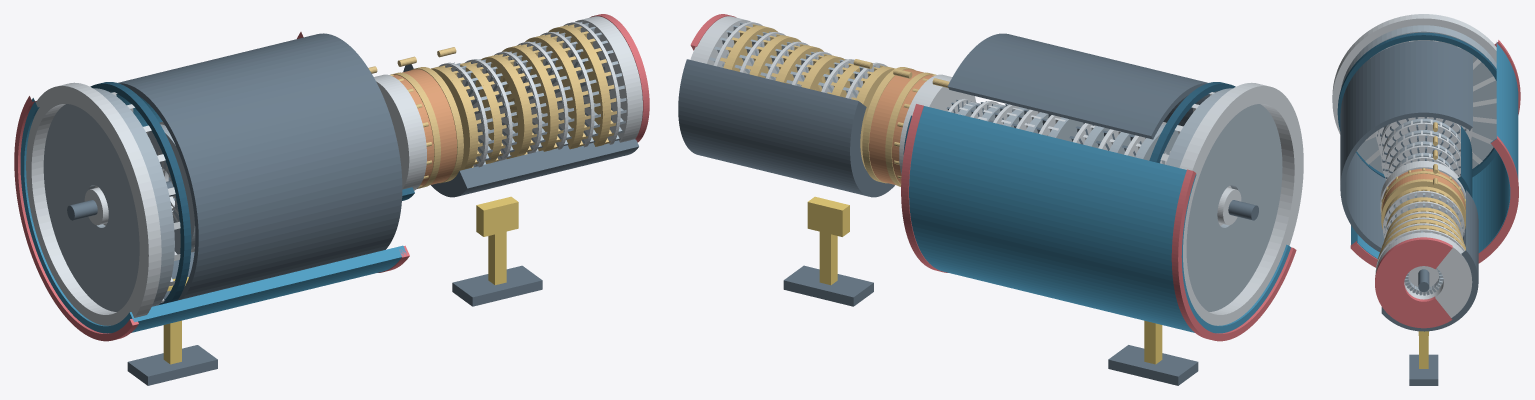
File: turbofan-cutaway.glb
The picture shows the model from 3 angles, left to right: view 1: azimuth 30°, elevation 25°; view 2: azimuth 150°, elevation 25°; view 3: azimuth 270°, elevation 25°; orthographic projection. The views are drawn at different scales.
Parts seen in each view (by area): view 1: Bypass duct inner liner, Fan hub disk, Fan inlet lip, Blue nacelle cutaway shell, Turbine outer case cutaway, Combustor diffuser, Fan case inner ring, Exhaust nozzle, Annular combustor outer liner, Inlet cutaway edge, Engine stand foot 2.35, Engine stand foot -2.75 (+21 smaller); view 2: Blue nacelle cutaway shell, Turbine outer case cutaway, Bypass duct inner liner, Fan hub disk, Fan inlet lip, Inlet cutaway edge, Annular combustor outer liner, Engine stand foot -2.75, Engine stand foot 2.35, Combustor diffuser, Rear nacelle cutaway edge, Engine stand yellow saddle 2.35 (+13 smaller); view 3: Bypass duct inner liner, Blue nacelle cutaway shell, Exhaust cutaway lip, Fan hub disk, Fan inlet lip, Exhaust nozzle, Fan case inner ring, Turbine outer case cutaway, Rear nacelle cutaway edge, Engine stand foot 2.35, Combustor rear flange, Combustor diffuser (+26 smaller).
Part boxes in pixels (<box>): Bypass duct inner liner: <box>109,33,402,304</box>; Fan hub disk: <box>43,88,174,311</box>; Fan inlet lip: <box>26,82,161,325</box>; Blue nacelle cutaway shell: <box>20,91,406,333</box>; Turbine outer case cutaway: <box>403,64,638,197</box>; Combustor diffuser: <box>374,74,426,190</box>; Fan case inner ring: <box>90,82,191,304</box>; Exhaust nozzle: <box>575,16,642,142</box>; Annular combustor outer liner: <box>392,69,456,186</box>; Inlet cutaway edge: <box>14,96,138,341</box>; Engine stand foot 2.35: <box>452,265,542,306</box>; Engine stand foot -2.75: <box>127,345,217,385</box>; Blue nacelle cutaway shell: <box>909,106,1290,333</box>; Turbine outer case cutaway: <box>678,59,894,197</box>; Bypass duct inner liner: <box>947,33,1218,139</box>; Fan hub disk: <box>1165,88,1282,311</box>; Fan inlet lip: <box>1179,82,1303,325</box>; Inlet cutaway edge: <box>1171,169,1296,341</box>; Annular combustor outer liner: <box>869,69,933,185</box>; Engine stand foot -2.75: <box>1108,345,1198,385</box>; Engine stand foot 2.35: <box>783,265,873,306</box>; Combustor diffuser: <box>899,74,976,174</box>; Rear nacelle cutaway edge: <box>901,104,947,272</box>; Engine stand yellow saddle 2.35: <box>807,196,849,236</box>; Bypass duct inner liner: <box>1340,40,1472,252</box>; Blue nacelle cutaway shell: <box>1351,42,1518,258</box>; Exhaust cutaway lip: <box>1375,237,1452,328</box>; Fan hub disk: <box>1341,25,1496,173</box>; Fan inlet lip: <box>1332,14,1496,134</box>; Exhaust nozzle: <box>1375,232,1472,317</box>; Fan case inner ring: <box>1337,32,1497,177</box>; Turbine outer case cutaway: <box>1381,190,1478,331</box>; Rear nacelle cutaway edge: <box>1350,136,1518,267</box>; Engine stand foot 2.35: <box>1409,354,1438,385</box>; Combustor rear flange: <box>1381,179,1465,229</box>; Combustor diffuser: <box>1380,161,1465,214</box>.
Size of the model in its own units: 8.7 by 4.45 by 3.54.
